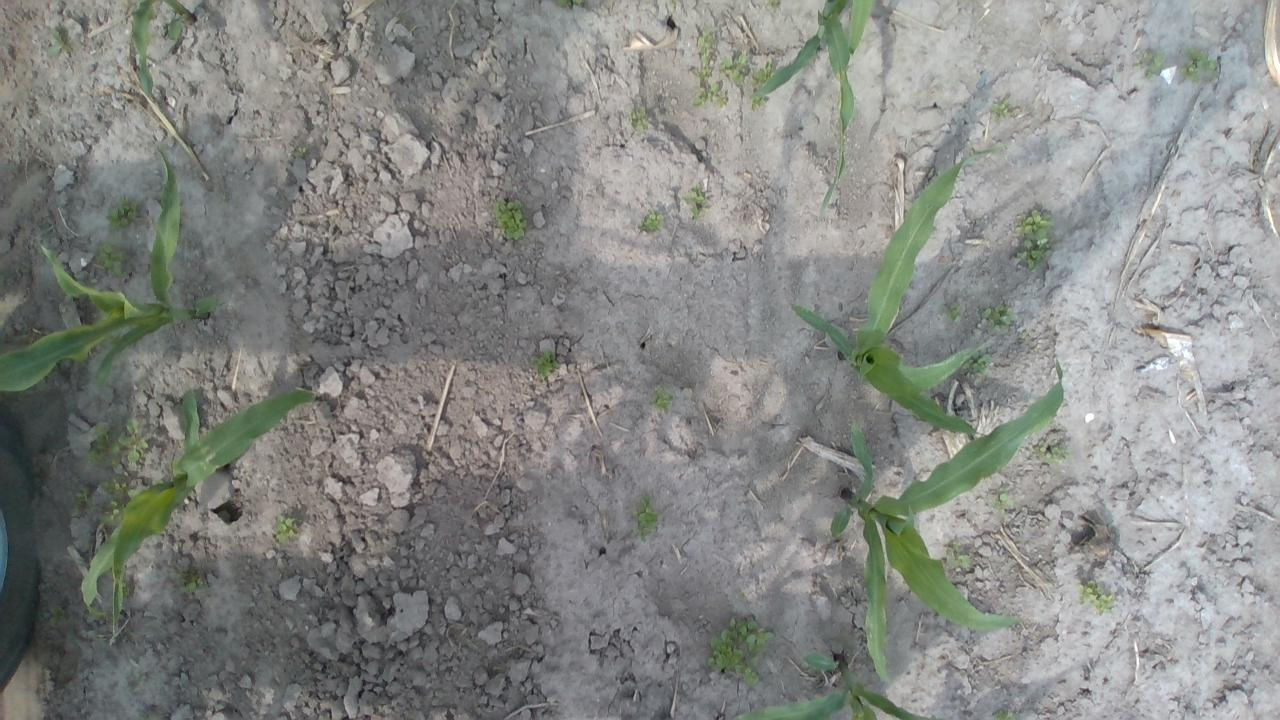Maize: (826, 358, 1064, 688), (786, 146, 1006, 461), (78, 386, 316, 650), (0, 143, 215, 395), (750, 1, 875, 225), (723, 651, 1016, 720), (127, 2, 201, 103)
Weeds: (72, 417, 150, 531), (692, 29, 774, 114), (709, 614, 770, 691), (1014, 206, 1056, 270), (32, 574, 68, 633), (106, 195, 142, 232), (493, 198, 526, 238), (632, 498, 662, 538), (1184, 50, 1216, 81), (1081, 581, 1116, 608), (96, 242, 128, 271), (529, 352, 562, 378), (979, 308, 1010, 334), (1136, 52, 1166, 78), (273, 519, 301, 545), (46, 31, 70, 59), (1036, 441, 1064, 464), (684, 187, 702, 216), (630, 106, 648, 134), (654, 388, 674, 412), (178, 577, 204, 595), (952, 541, 969, 564), (644, 214, 664, 232), (968, 356, 992, 369), (994, 494, 1014, 507), (946, 304, 961, 321), (994, 101, 1012, 114)
